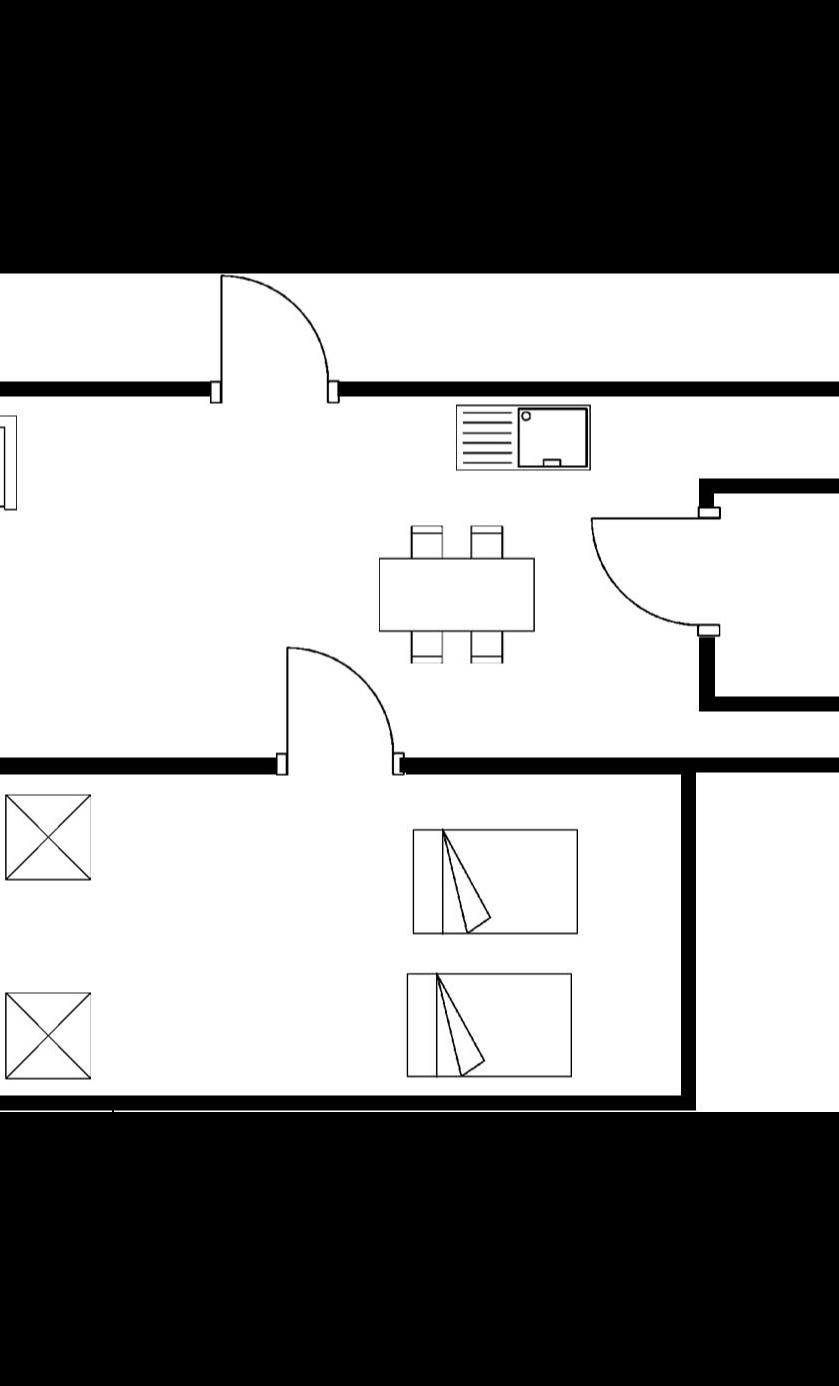bed: (371, 516, 540, 668), (402, 822, 586, 946), (396, 965, 580, 1088)
sink: (448, 400, 598, 480)
